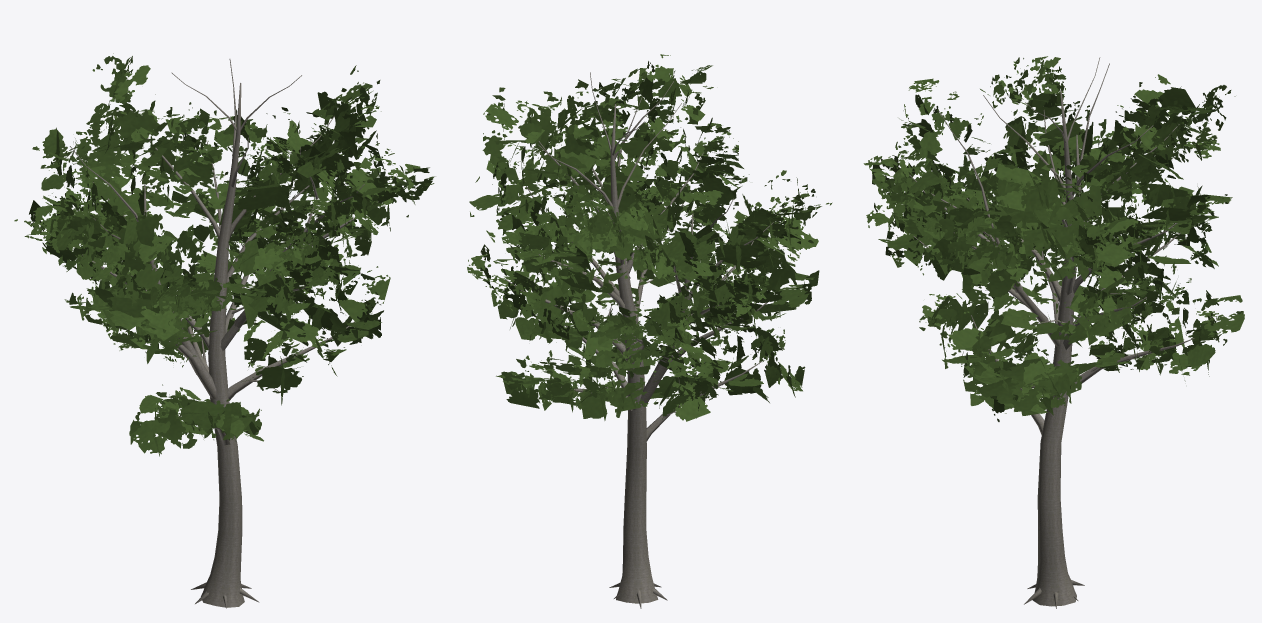
Rendered from HeroSugarMapleLOD0.fbx.
3 views of the same model, side by side, from view 1: azimuth 30°, elevation 25°; view 2: azimuth 150°, elevation 25°; view 3: azimuth 270°, elevation 25° (orthographic). The views are drawn at different scales.
Parts seen in each view (by area): view 1: Foliage, Bark; view 2: Foliage, Bark; view 3: Foliage, Bark.
Part boxes in pixels (<box>): Foliage: <box>14,53,435,456</box>; Bark: <box>70,59,378,608</box>; Foliage: <box>467,54,832,421</box>; Bark: <box>505,72,776,608</box>; Foliage: <box>863,56,1244,421</box>; Bark: <box>909,57,1194,608</box>.
Size of the model in its own units: 15.69 by 24.55 by 14.98.
